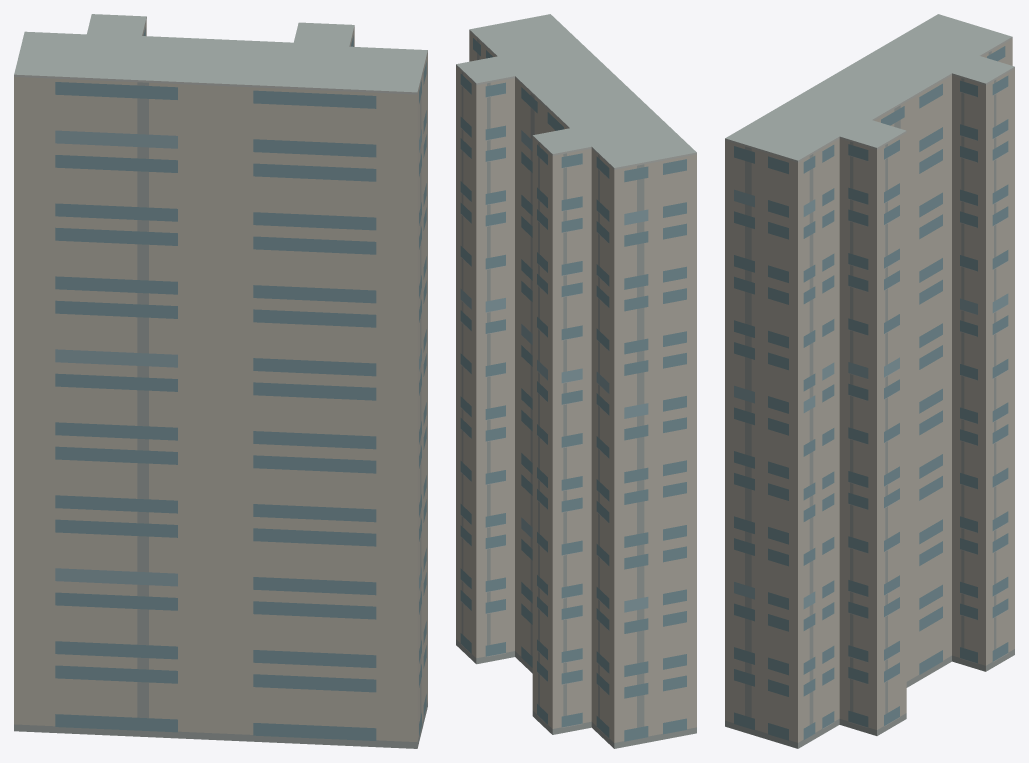
Rendered from residential-6cca4199-dd46-4c74-99ca-a8f1f329fa3e.glb.
The picture shows the model from 3 angles, left to right: view 1: azimuth 30°, elevation 25°; view 2: azimuth 150°, elevation 25°; view 3: azimuth 270°, elevation 25°; orthographic projection. The views are drawn at different scales.
Visible parts, largest first — view 1: residential-6cca4199-dd46-4c74-99ca-a8f1f329fa3e.tmp; view 2: residential-6cca4199-dd46-4c74-99ca-a8f1f329fa3e.tmp; view 3: residential-6cca4199-dd46-4c74-99ca-a8f1f329fa3e.tmp.
Boxes of the visible parts, box(x1,y1,x2,y2) form: residential-6cca4199-dd46-4c74-99ca-a8f1f329fa3e.tmp: box(14, 14, 427, 748); residential-6cca4199-dd46-4c74-99ca-a8f1f329fa3e.tmp: box(456, 14, 696, 748); residential-6cca4199-dd46-4c74-99ca-a8f1f329fa3e.tmp: box(725, 14, 1014, 748).
Bounding box in the file's own units: 39.59 × 74 × 33.06.
